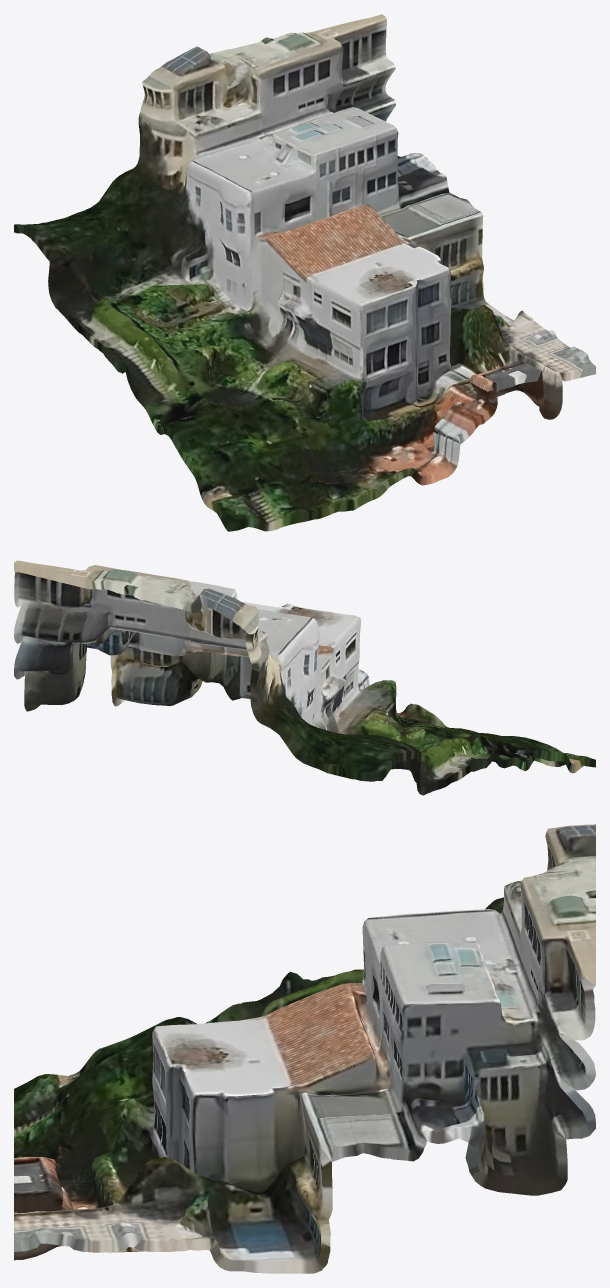
Rendered from z20-167757-405196-h0-yup-uvflip-v3-world.glb.
3 renders of one model, top to bottom at view 1: azimuth 30°, elevation 25°; view 2: azimuth 150°, elevation 25°; view 3: azimuth 270°, elevation 25°, orthographic. The views are drawn at different scales.
Size of the model in its own units: 30.16 by 23.04 by 30.32.
1 material, 1 textured.
